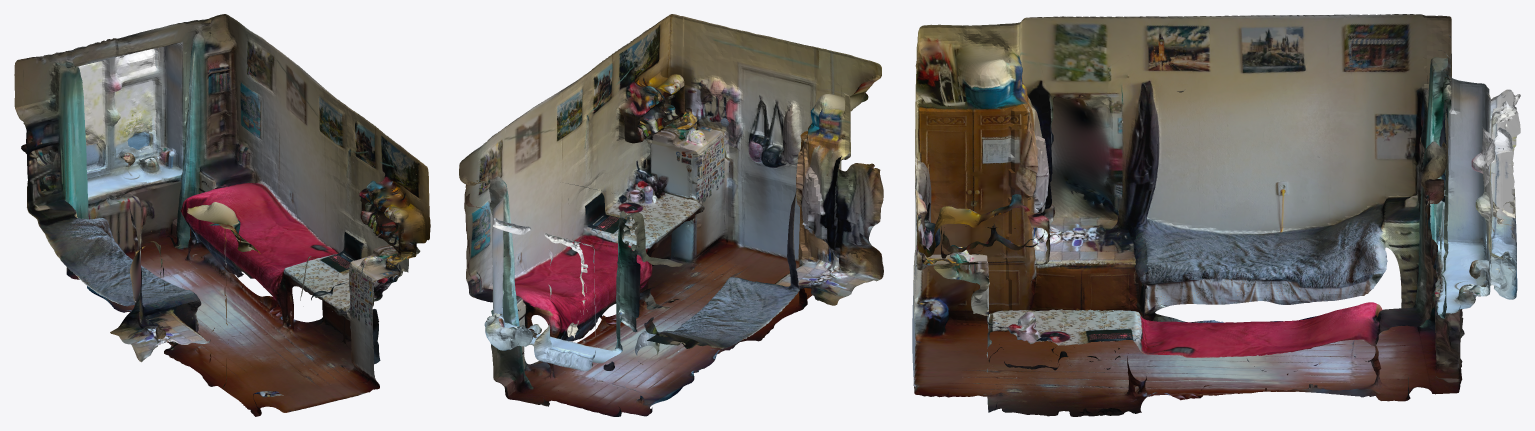
The picture shows the model from 3 angles, left to right: view 1: azimuth 30°, elevation 25°; view 2: azimuth 150°, elevation 25°; view 3: azimuth 270°, elevation 25°; orthographic projection. The views are drawn at different scales.
Bounding box in the file's own units: 3.12 × 2.55 × 4.93.
3 materials, 3 textured.
